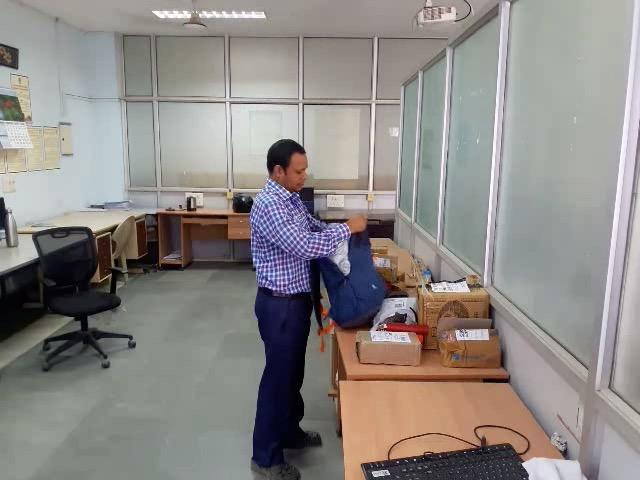shoplifting: (233, 194, 426, 339)
